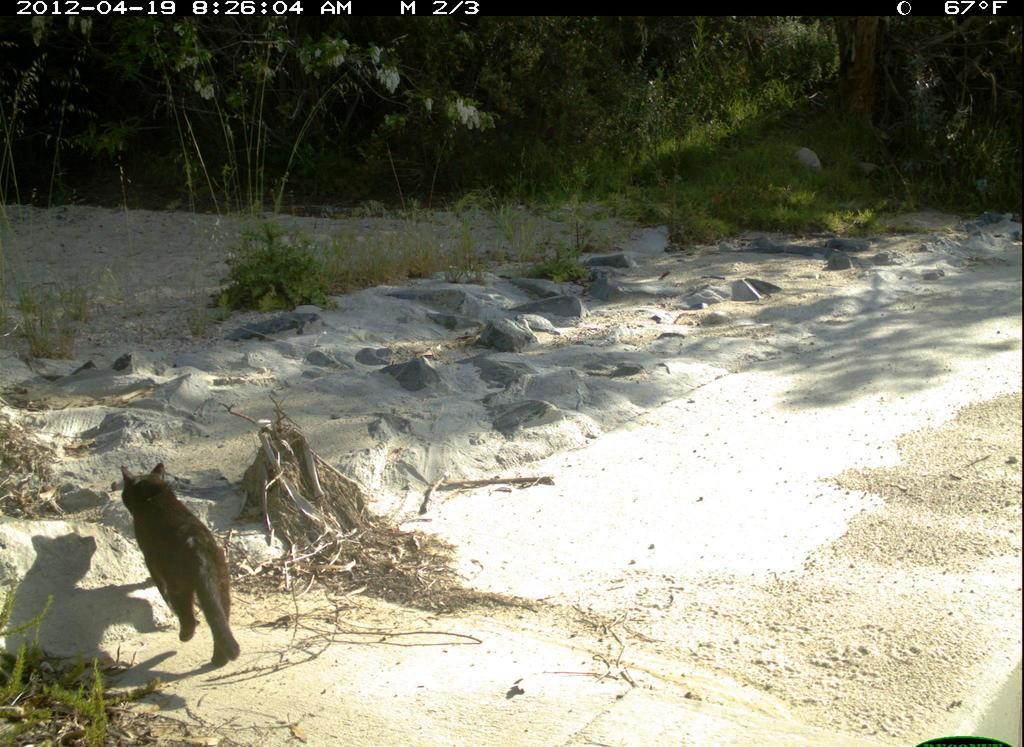cat: (116, 459, 249, 671)
